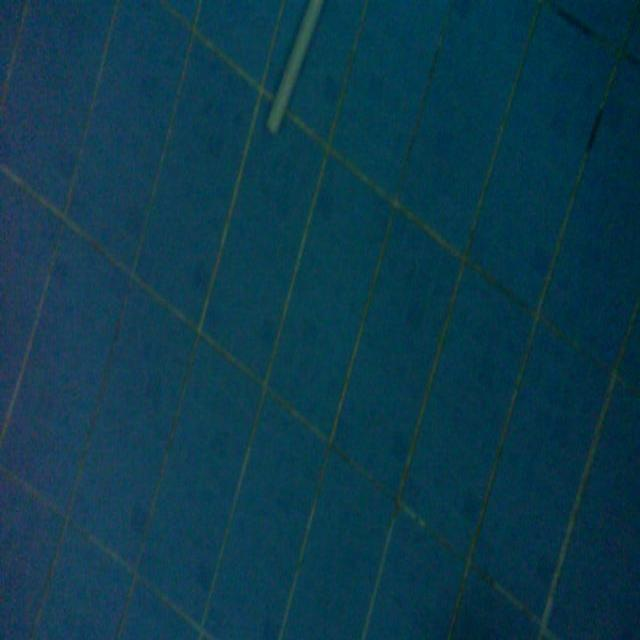Cube: (264, 0, 325, 137)
